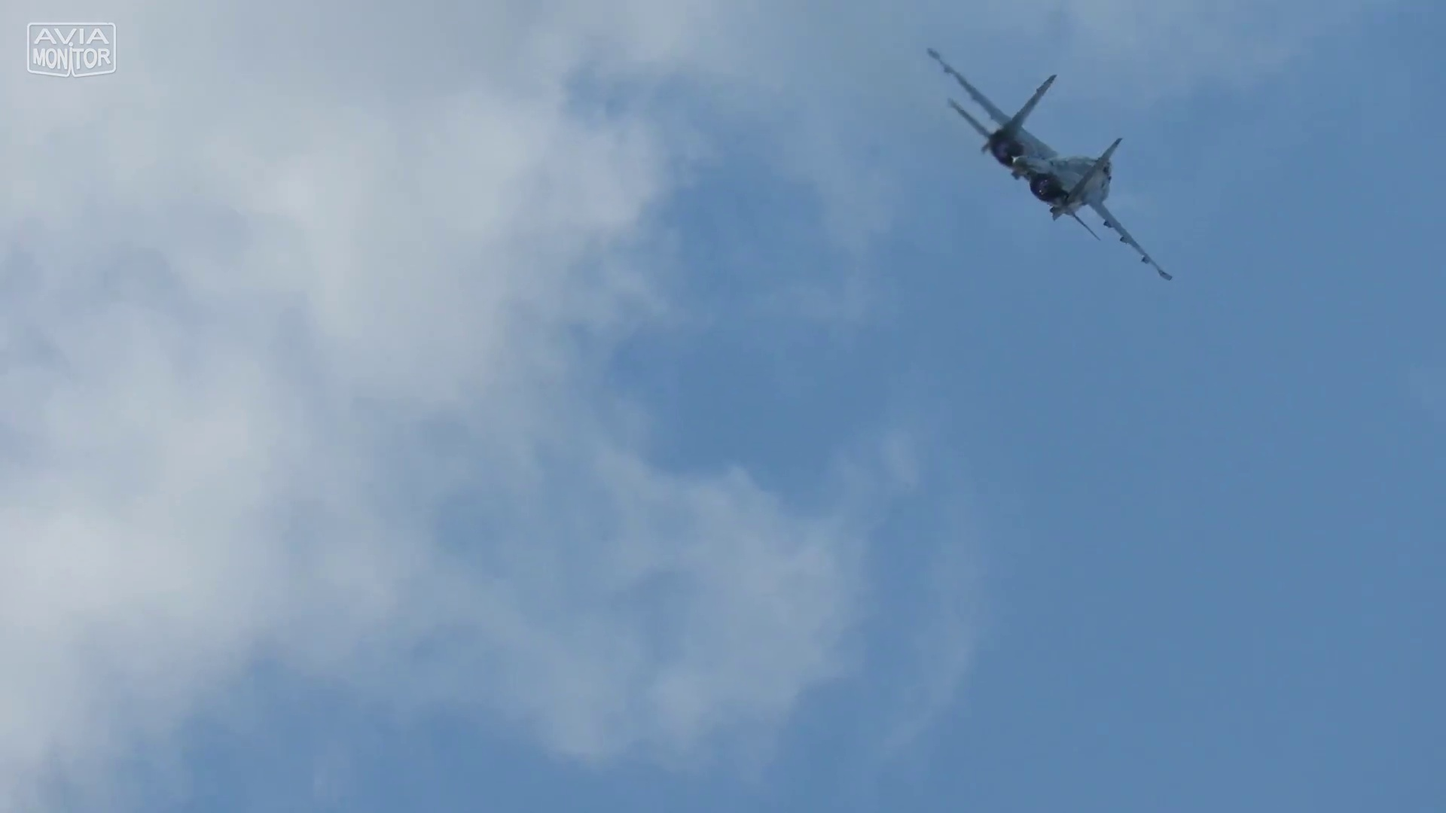Su35: (917, 36, 1182, 289)
